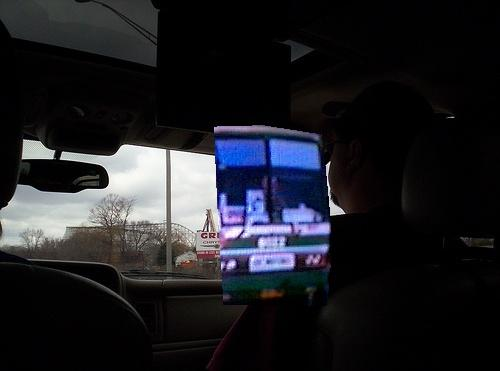tampered: (215, 126, 332, 306)
